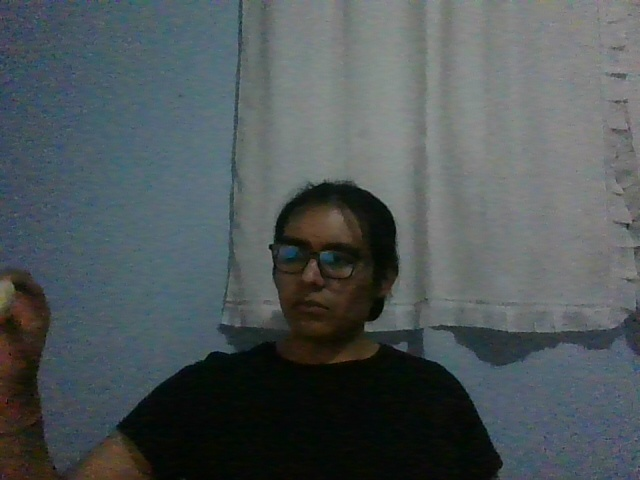goma: (1, 280, 15, 314)
